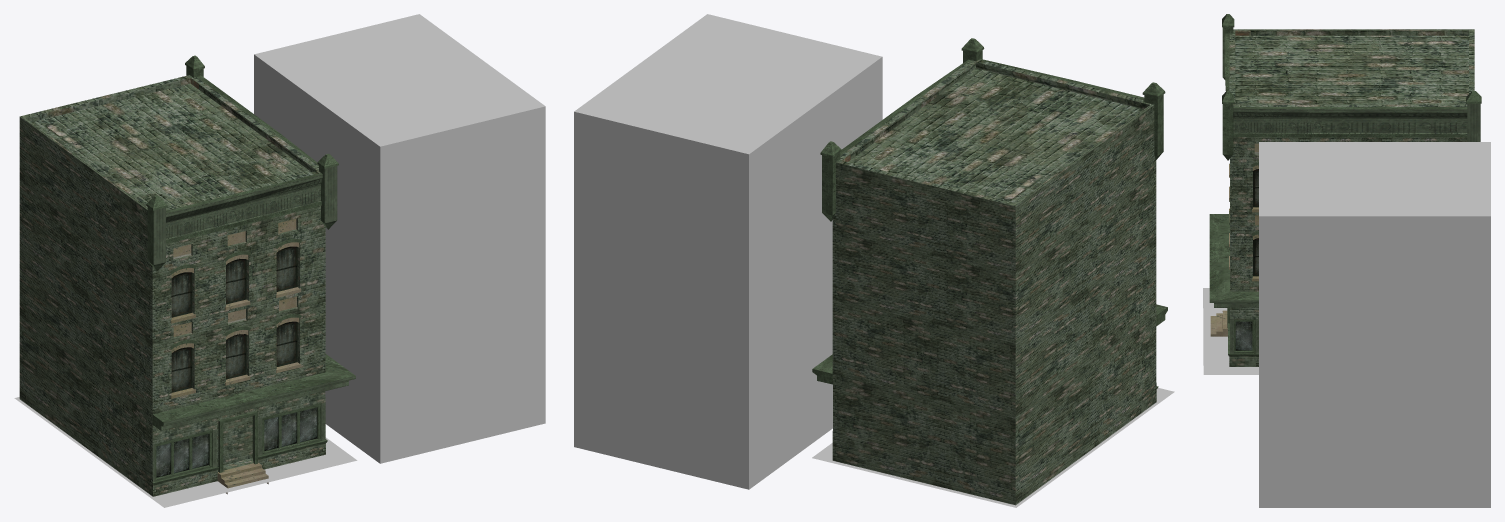
Rendered from BuildingCorner03.FBX.
The picture shows the model from 3 angles, left to right: view 1: azimuth 30°, elevation 25°; view 2: azimuth 150°, elevation 25°; view 3: azimuth 270°, elevation 25°; orthographic projection. The views are drawn at different scales.
Parts seen in each view (by area): view 1: BldgCorner03_lod:0, BldgCorner03:6, BldgCorner03:7, BldgCorner03:75, BldgCorner03:33; view 2: BldgCorner03:6, BldgCorner03_lod:0, BldgCorner03:7, BldgCorner03:75; view 3: BldgCorner03_lod:0, BldgCorner03:6, BldgCorner03:7, BldgCorner03:75, BldgCorner03:33.
Part boxes in pixels (<box>): BldgCorner03_lod:0: <box>254,14,545,463</box>; BldgCorner03:6: <box>19,75,325,496</box>; BldgCorner03:7: <box>146,55,355,494</box>; BldgCorner03:75: <box>14,397,357,507</box>; BldgCorner03:33: <box>156,407,316,477</box>; BldgCorner03:6: <box>832,60,1156,505</box>; BldgCorner03_lod:0: <box>574,14,882,489</box>; BldgCorner03:7: <box>812,38,1167,388</box>; BldgCorner03:75: <box>812,388,1174,507</box>; BldgCorner03_lod:0: <box>1259,142,1490,507</box>; BldgCorner03:6: <box>1229,29,1474,366</box>; BldgCorner03:7: <box>1209,14,1481,356</box>; BldgCorner03:75: <box>1203,288,1258,374</box>; BldgCorner03:33: <box>1235,321,1252,350</box>.
Bounding box in the file's own units: 15.27 × 11.96 × 10.03.
